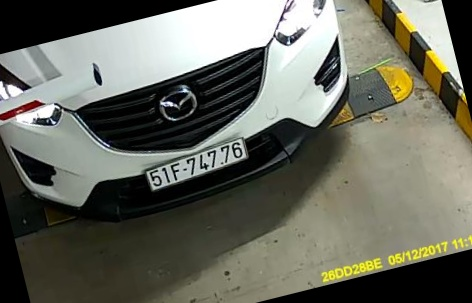plate: (138, 135, 255, 196)
